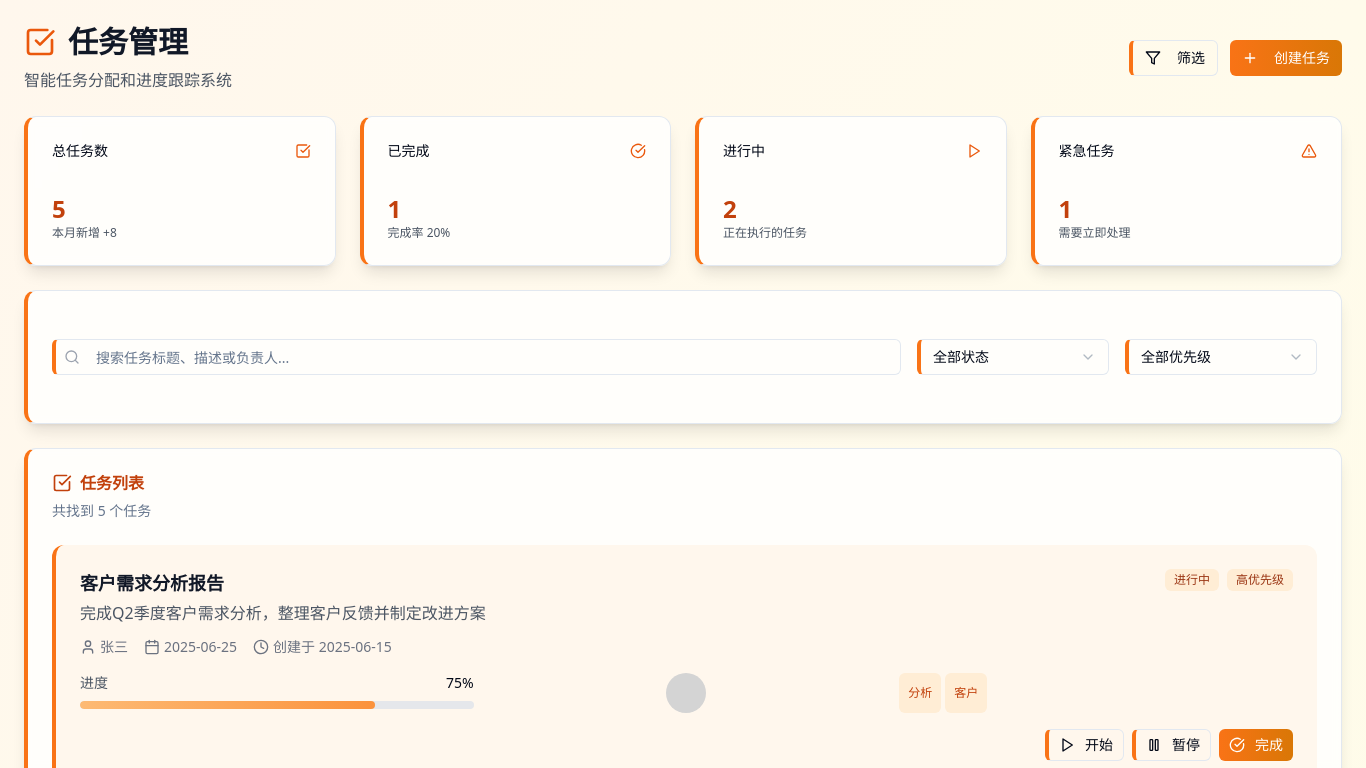
TaskManagement › should open create task dialog
Click the button "创建任务" at (1286, 58), box [1230,40,1342,76]
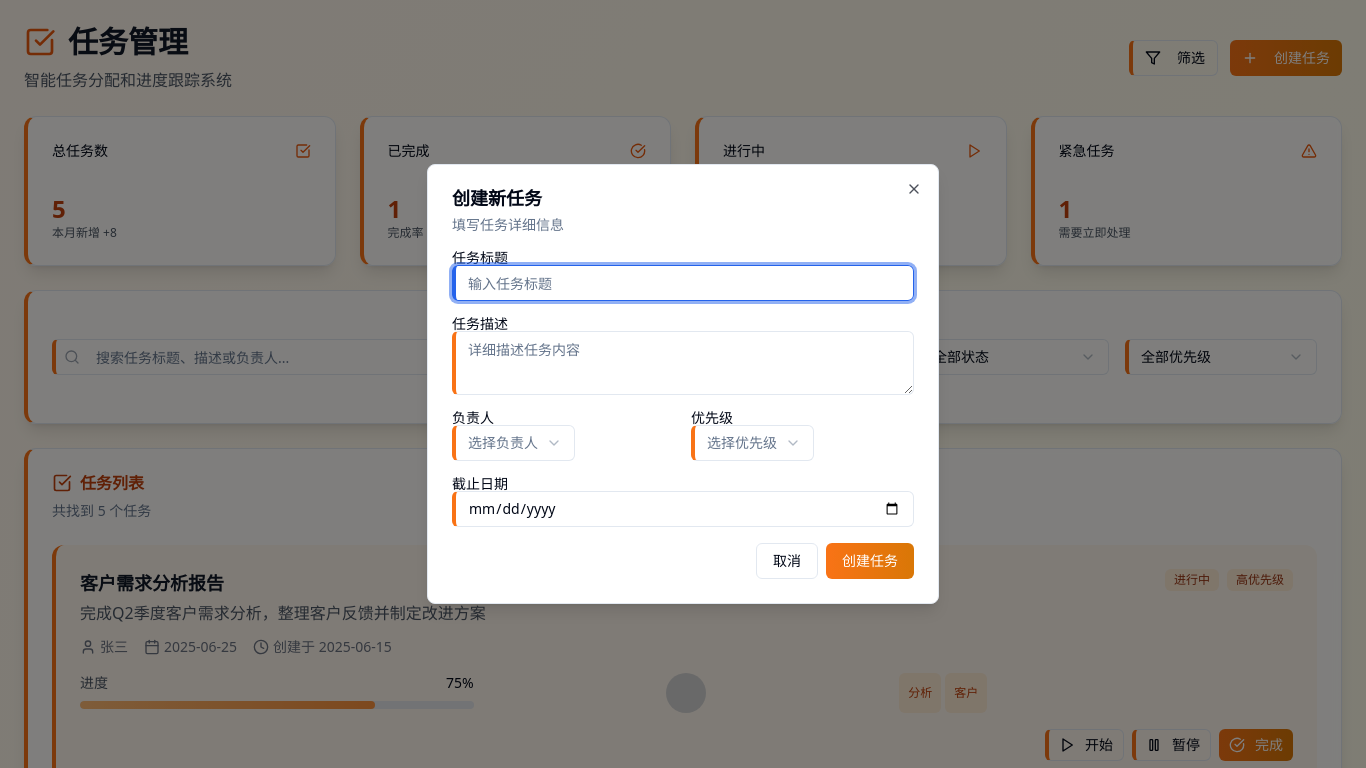
expect the heading "创建新任务" is shown: met, box [452,186,542,210]
expect the field with placeholder "输入任务标题" is shown: met, box [452,265,914,301]
expect the text box with placeholder "详细描述任务内容" is shown: met, box [452,331,914,395]
